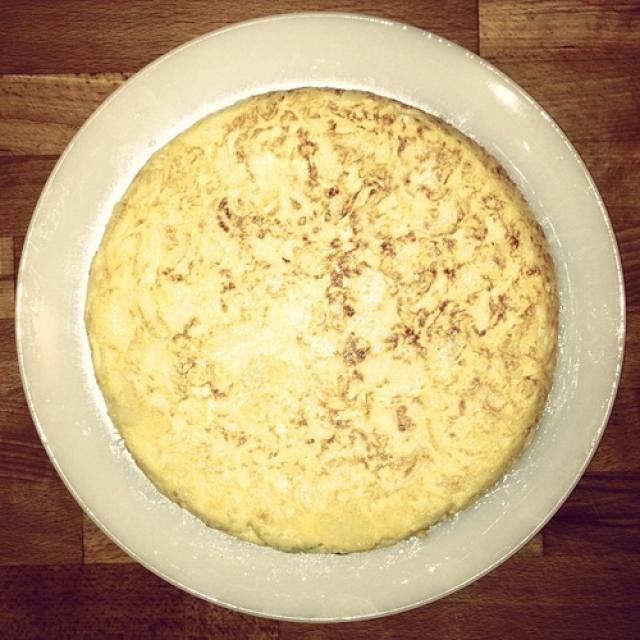面包点心: (69, 80, 544, 528)
